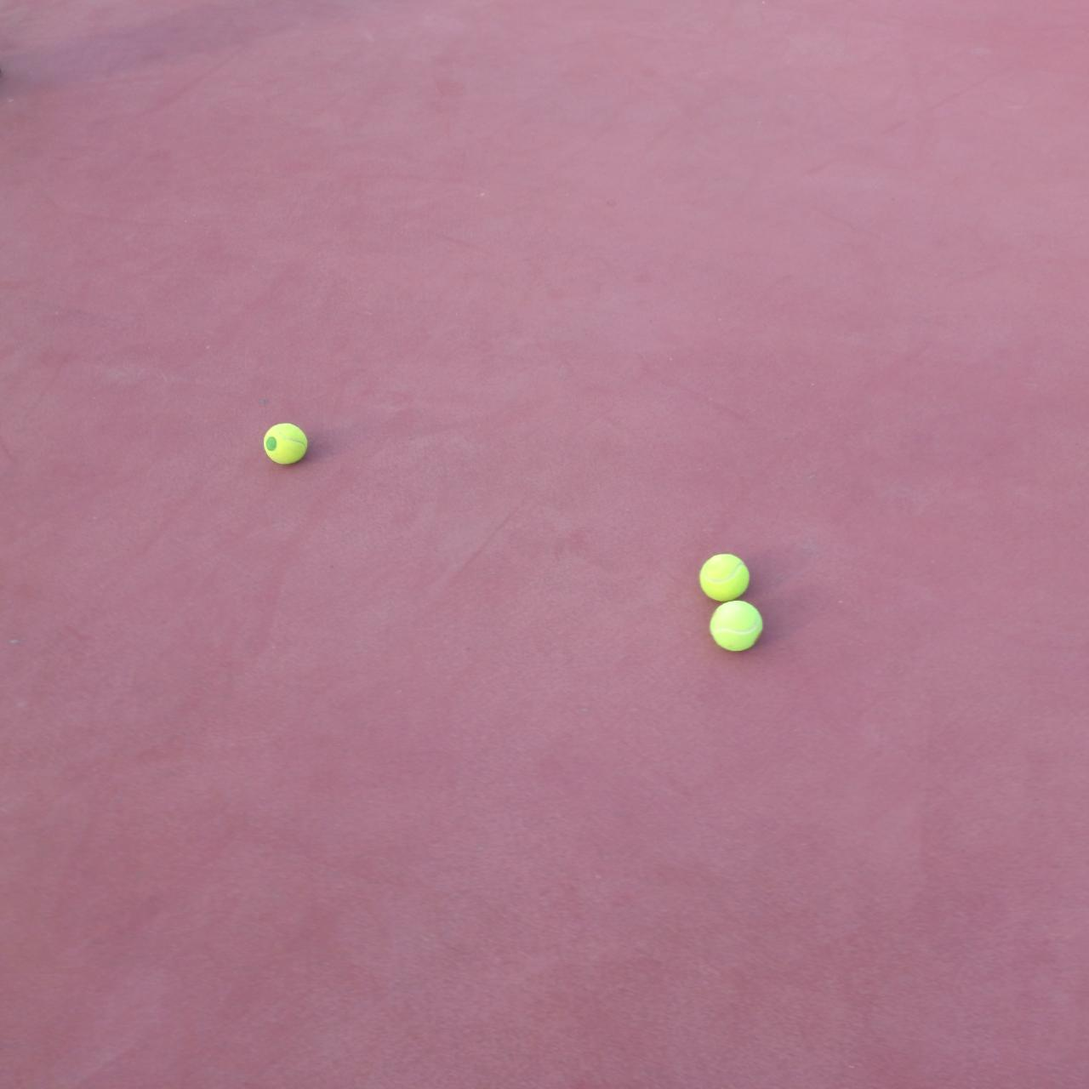tennis-ball: (708, 598, 763, 652), (697, 550, 750, 601), (260, 419, 309, 465)
